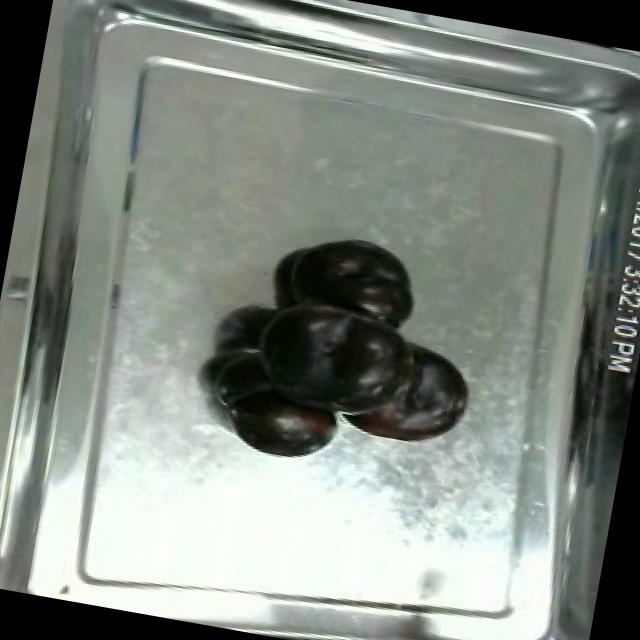Fruit: (269, 222, 428, 334), (217, 380, 351, 470), (0, 519, 19, 590)
